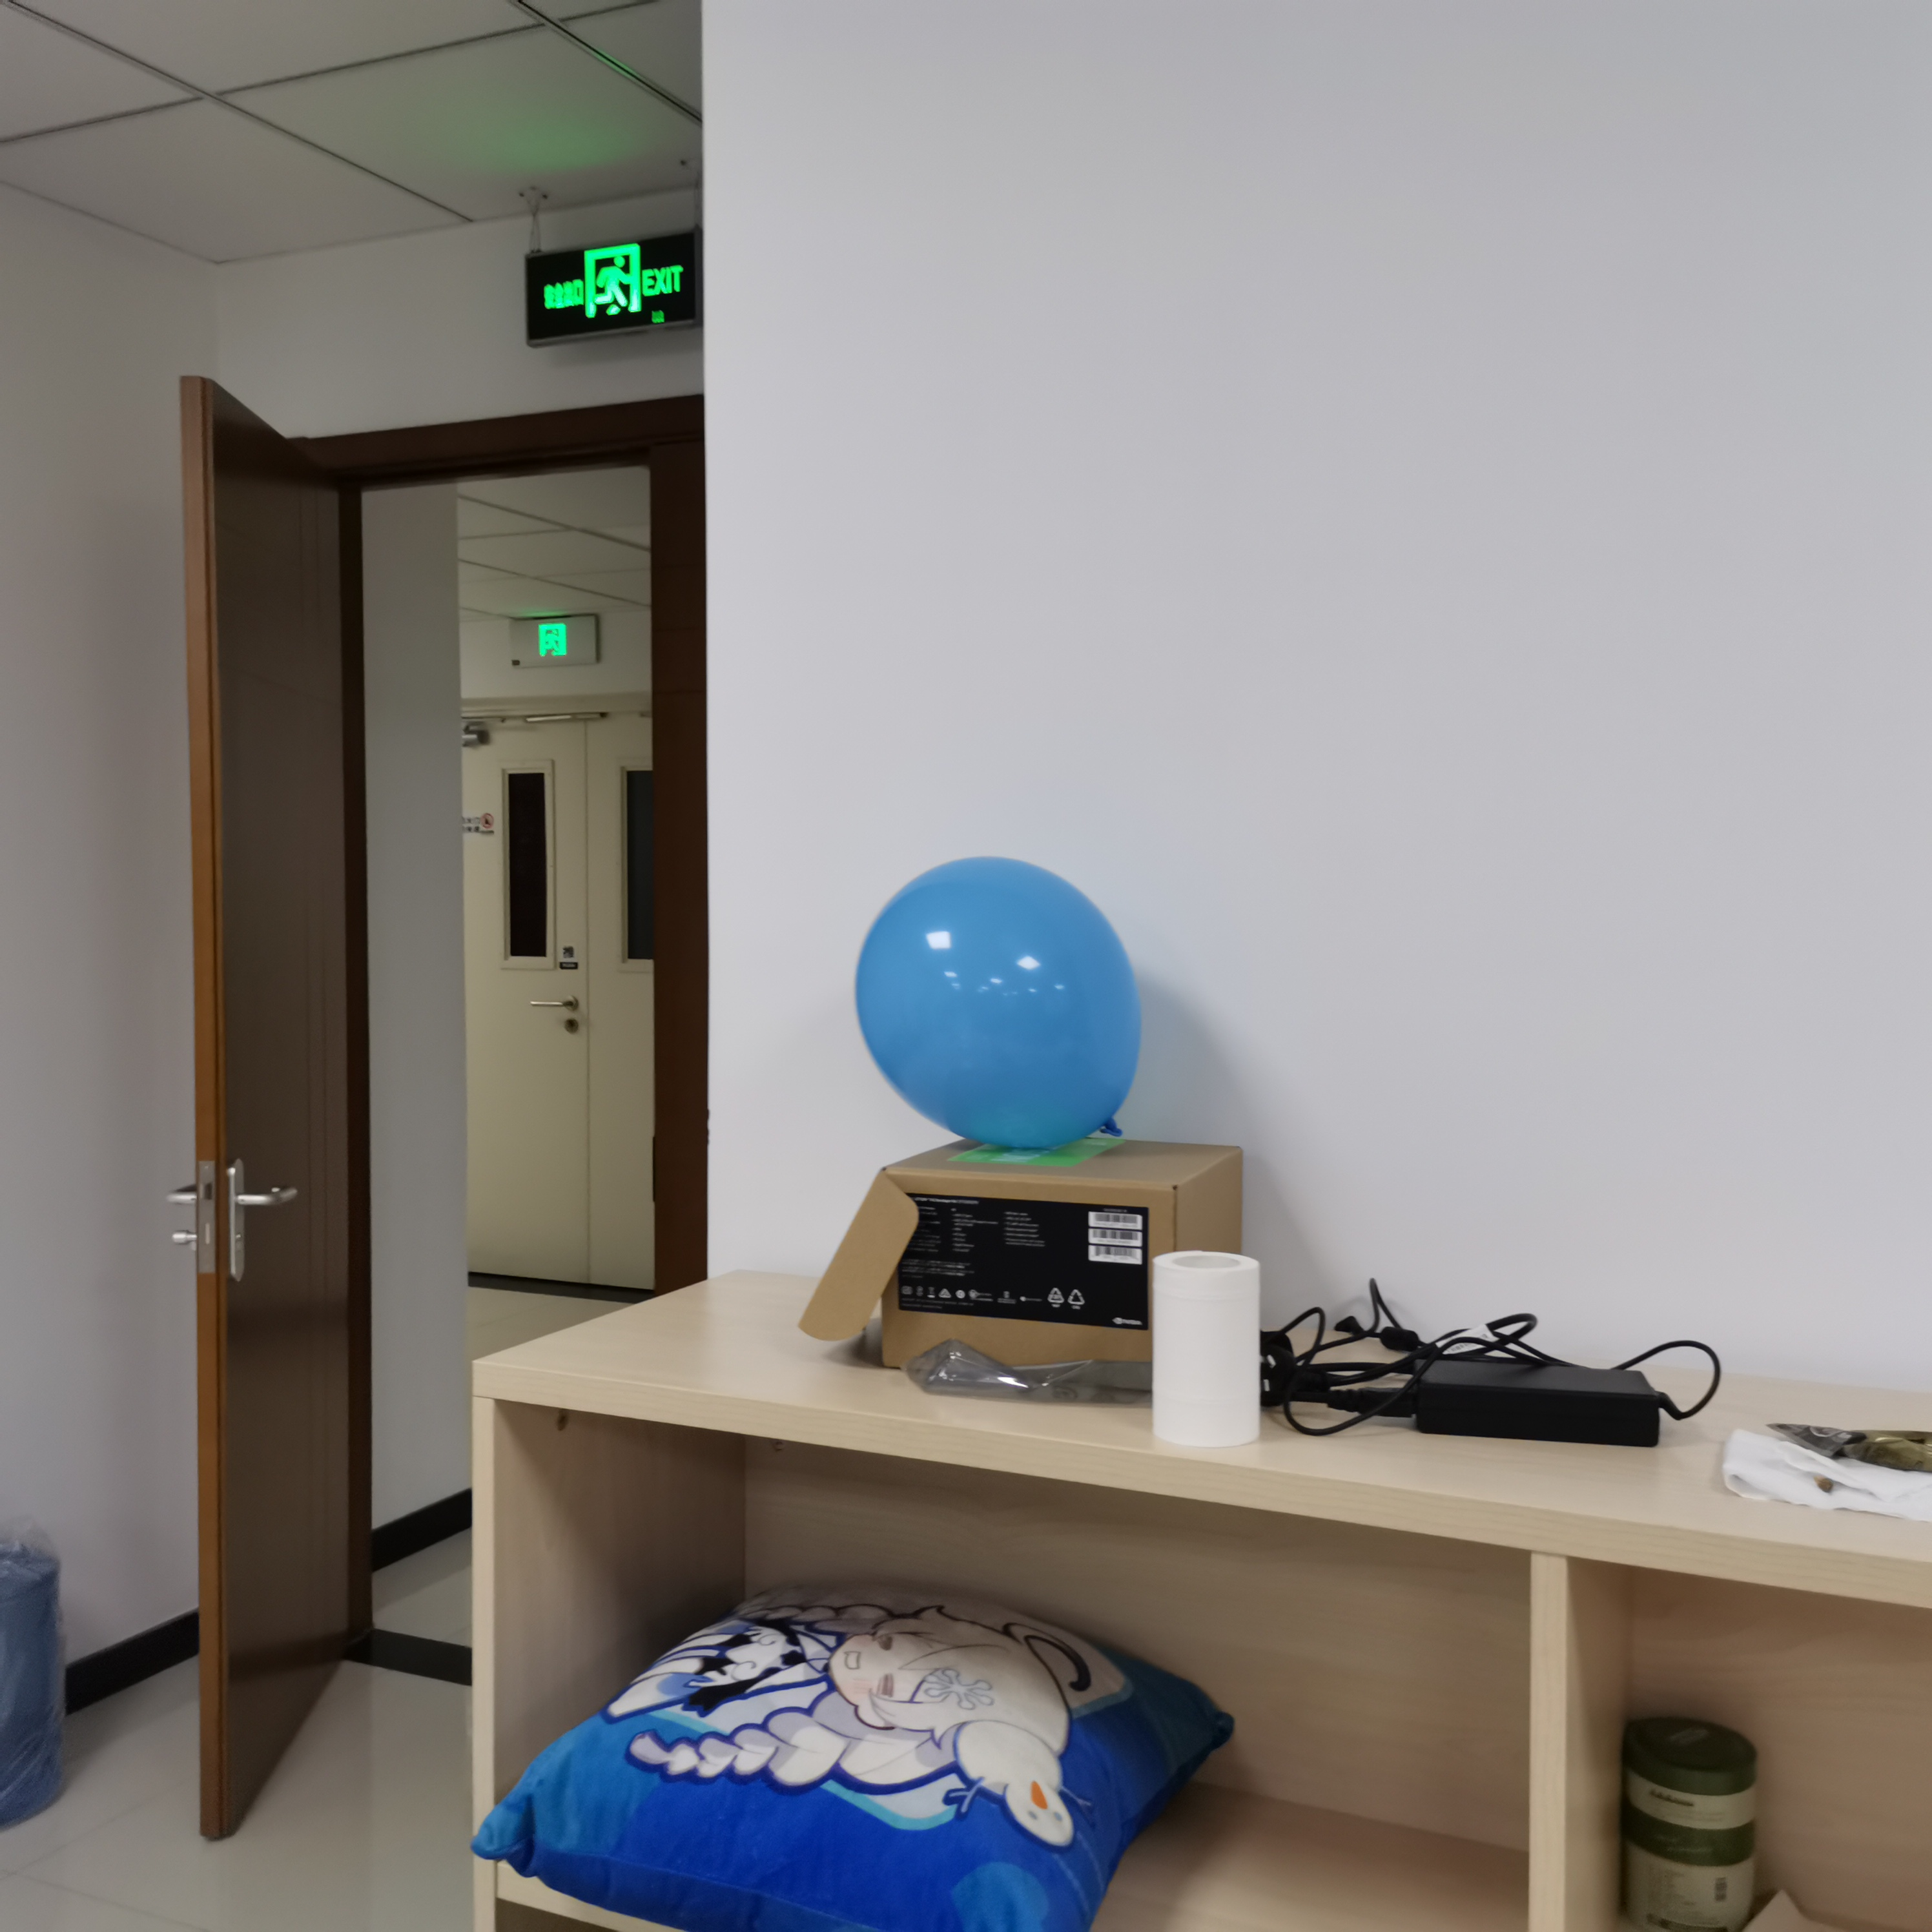balloon: (853, 858, 1143, 1152)
